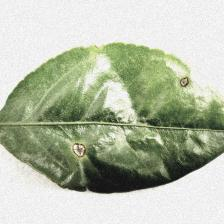canker: (59, 70, 194, 162)
